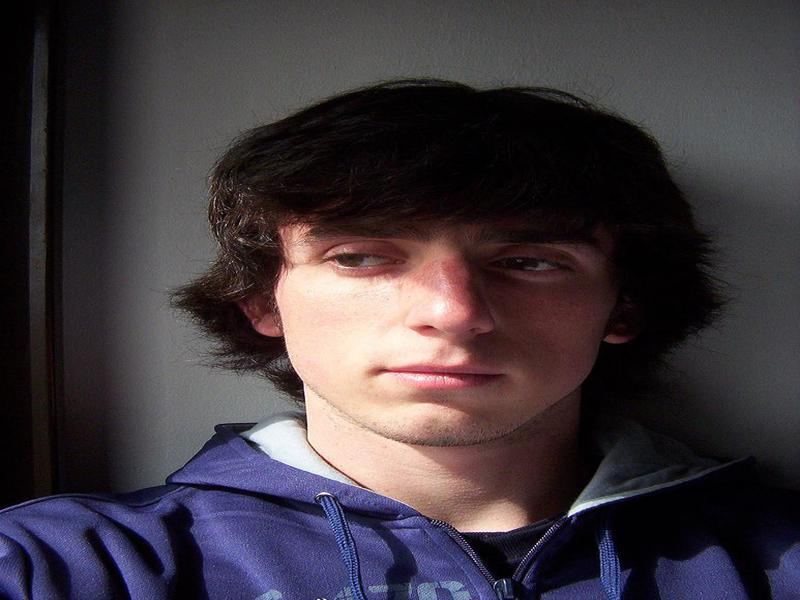person: (1, 78, 796, 600)
